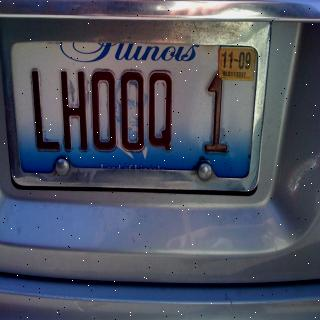license: (12, 40, 261, 174)
